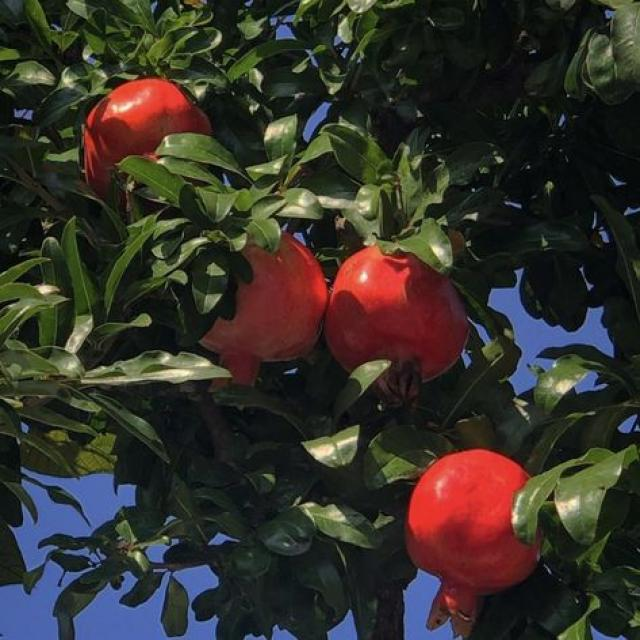Tao: (402, 444, 544, 632), (323, 242, 467, 390), (196, 230, 329, 383), (83, 76, 211, 215)
